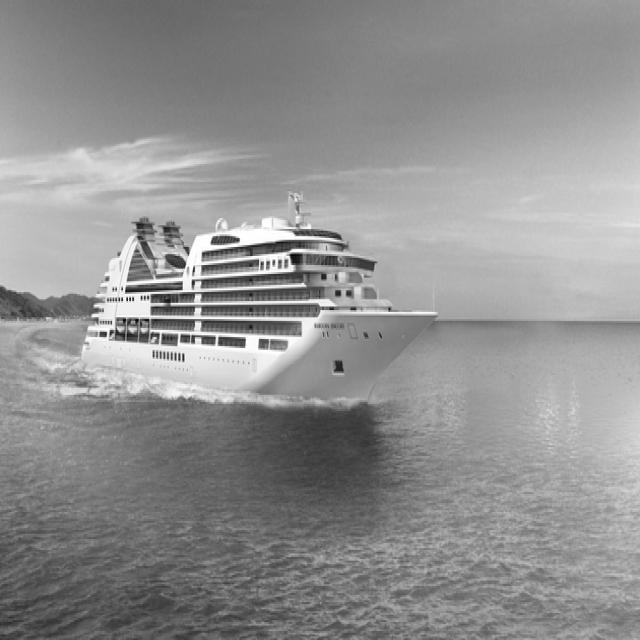Cruise Ship: (80, 172, 442, 425)
